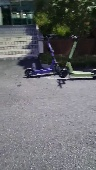beam: (22, 35, 65, 77)
gcooter: (58, 33, 96, 79)
